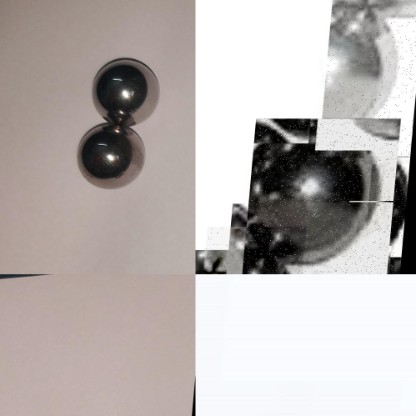ironball: (247, 118, 380, 261), (322, 0, 415, 156), (74, 118, 153, 194), (92, 54, 169, 129)
